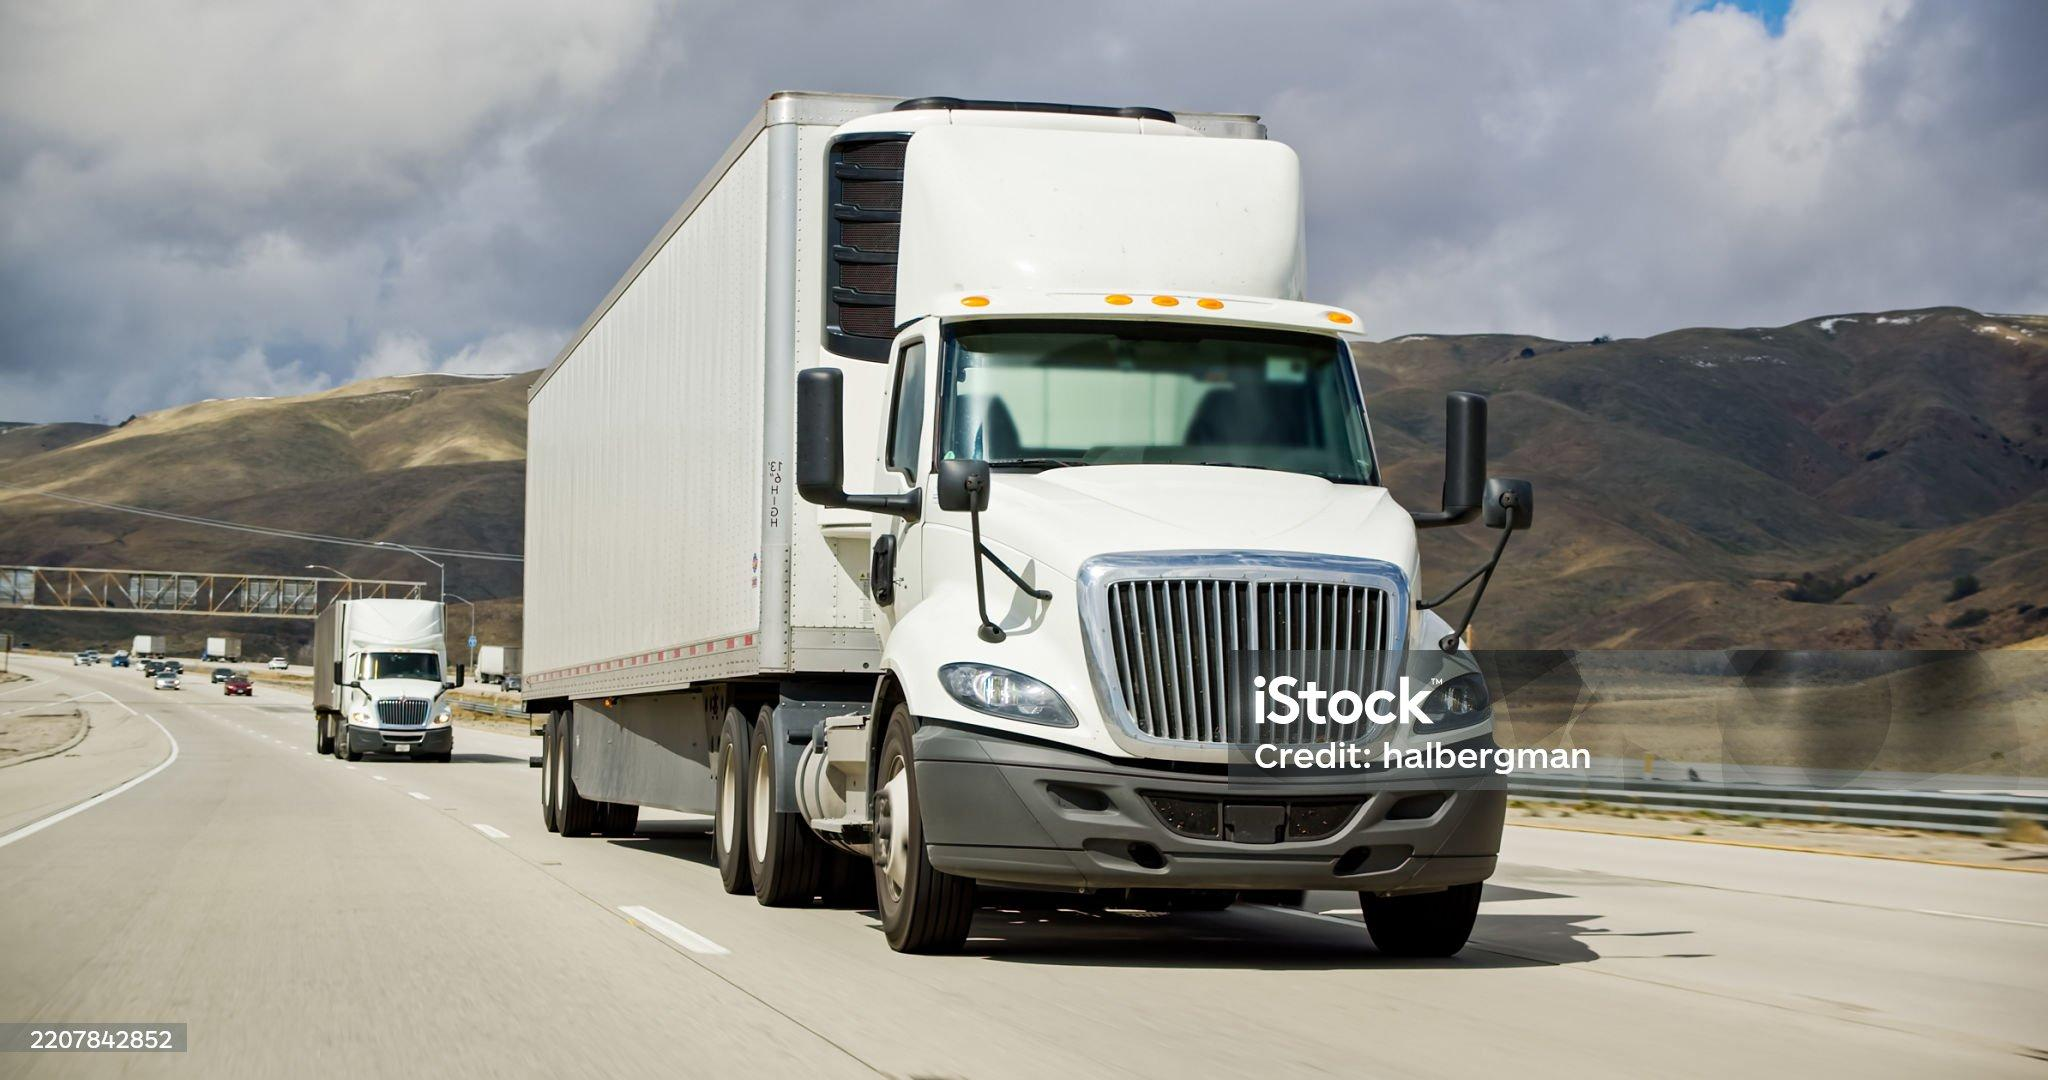Trucks: (521, 94, 1527, 954), (312, 599, 461, 760), (475, 645, 520, 684), (200, 636, 241, 661), (129, 636, 167, 659)
